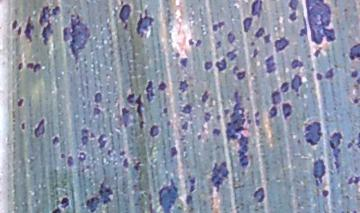tarspot: (226, 89, 253, 171), (303, 1, 337, 45), (61, 13, 90, 64), (38, 5, 61, 47), (157, 178, 179, 213), (328, 130, 344, 175), (210, 159, 229, 192), (135, 9, 155, 39), (303, 120, 324, 147), (134, 93, 146, 131), (312, 158, 327, 187), (97, 179, 113, 206), (118, 3, 132, 30), (23, 14, 35, 45), (32, 117, 47, 140), (274, 34, 290, 55), (290, 73, 302, 98), (144, 79, 156, 104), (78, 127, 92, 148), (264, 54, 277, 75), (84, 195, 99, 213), (252, 186, 267, 203), (176, 78, 191, 95), (249, 1, 263, 19), (280, 101, 293, 120), (120, 106, 131, 128), (225, 47, 240, 62), (298, 14, 307, 38), (241, 16, 253, 34), (214, 56, 226, 73), (97, 132, 109, 149), (349, 43, 360, 61), (165, 118, 174, 140), (286, 10, 298, 25), (290, 58, 305, 70), (323, 67, 336, 80), (254, 26, 266, 40), (149, 124, 161, 138), (253, 109, 262, 127), (59, 196, 71, 209), (180, 102, 192, 115), (267, 105, 278, 119), (211, 20, 225, 31), (168, 145, 179, 159), (226, 30, 236, 45), (200, 89, 210, 104), (202, 60, 214, 72), (49, 134, 61, 146), (347, 174, 360, 185), (157, 80, 168, 93), (271, 90, 281, 104), (236, 69, 247, 81), (91, 106, 102, 118), (354, 131, 360, 153), (186, 173, 198, 184), (312, 45, 322, 58), (262, 33, 272, 46), (221, 107, 230, 121), (178, 57, 189, 68), (279, 80, 289, 92), (203, 111, 213, 123), (93, 92, 103, 104), (77, 150, 87, 162), (121, 157, 130, 170), (66, 155, 75, 168), (184, 193, 194, 204), (31, 63, 41, 74), (211, 126, 221, 137), (126, 93, 135, 105), (231, 64, 239, 77), (181, 120, 189, 133), (107, 145, 115, 158), (314, 71, 324, 81), (288, 1, 299, 10), (133, 160, 142, 171), (346, 138, 355, 149), (252, 46, 259, 60), (19, 121, 27, 133), (194, 38, 202, 50), (321, 188, 330, 198), (25, 61, 35, 70), (16, 97, 24, 108), (16, 26, 24, 37), (10, 19, 18, 30), (350, 69, 359, 78), (341, 6, 350, 15), (187, 37, 195, 46), (188, 184, 196, 193), (118, 149, 126, 158), (16, 61, 23, 71), (215, 40, 222, 50), (214, 113, 221, 123), (49, 207, 60, 213), (59, 152, 67, 160), (73, 65, 81, 73), (89, 131, 96, 140), (195, 132, 202, 141), (296, 136, 302, 146), (161, 106, 168, 114), (352, 97, 359, 104), (340, 51, 347, 58), (309, 65, 316, 72), (275, 135, 282, 142), (306, 52, 313, 58), (345, 193, 351, 200), (249, 40, 255, 46), (355, 78, 360, 85), (351, 209, 358, 213)
